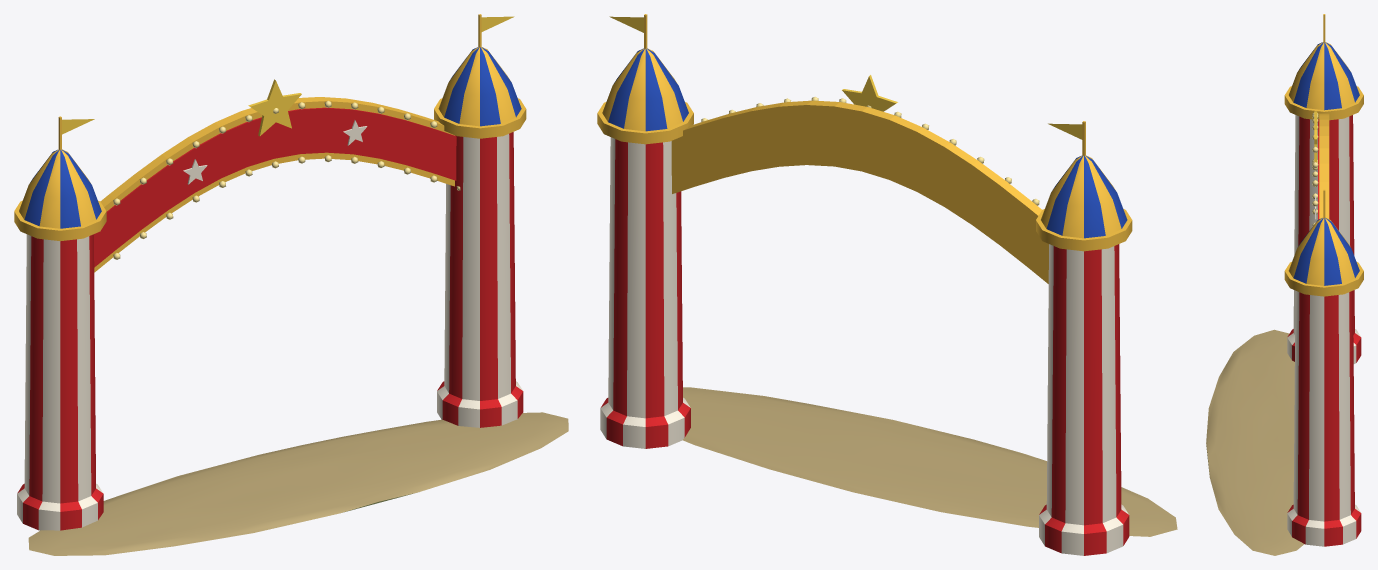
The model's file is CircusGate.fbx.
The picture shows the model from 3 angles, left to right: view 1: azimuth 30°, elevation 25°; view 2: azimuth 150°, elevation 25°; view 3: azimuth 270°, elevation 25°; orthographic projection. The views are drawn at different scales.
Visible parts, largest first — view 1: CircusGate; view 2: CircusGate; view 3: CircusGate.
Boxes of the visible parts, x1=… form: CircusGate: x1=14, y1=14, x2=568, y2=555; CircusGate: x1=597, y1=14, x2=1177, y2=555; CircusGate: x1=1206, y1=14, x2=1363, y2=555.
Size of the model in its own units: 10.8 by 7.6 by 3.19.
Materials: 2 (2 with a texture image).
